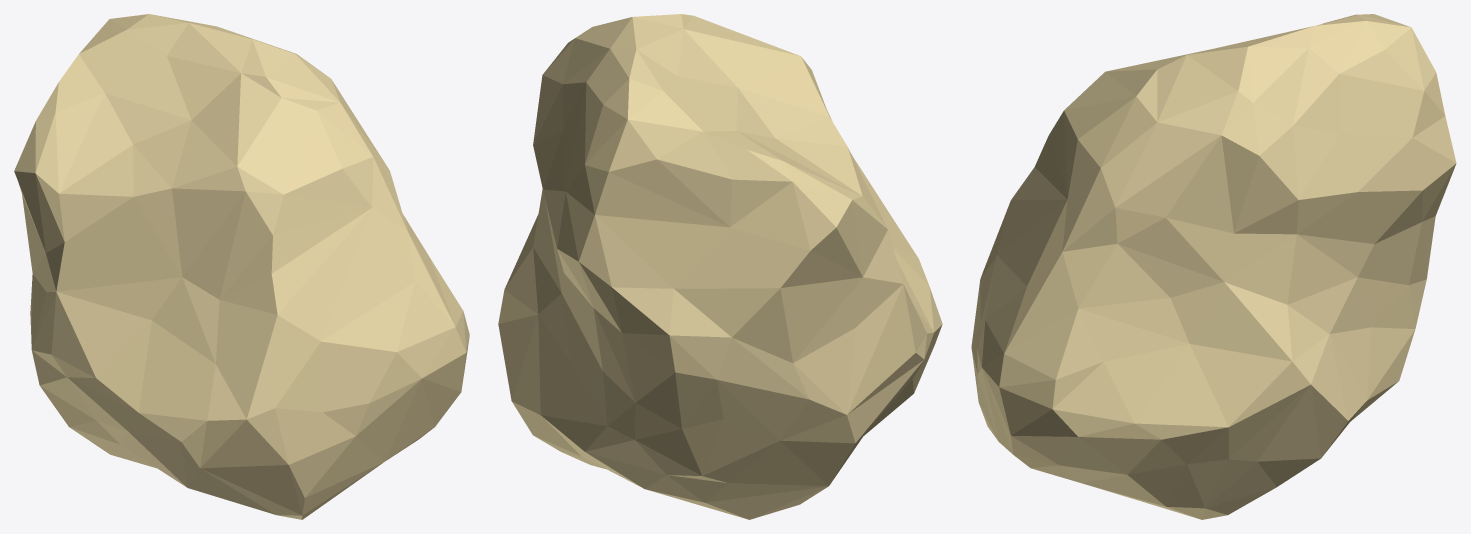
The model's file is Asteroid (78).fbx.
3 views of the same model, side by side, from view 1: azimuth 30°, elevation 25°; view 2: azimuth 150°, elevation 25°; view 3: azimuth 270°, elevation 25° (orthographic). The views are drawn at different scales.
Parts seen in each view (by area): view 1: Asteroid107; view 2: Asteroid107; view 3: Asteroid107.
Boxes of the visible parts, <box> form: Asteroid107: <box>14,14,469,519</box>; Asteroid107: <box>498,14,942,519</box>; Asteroid107: <box>971,14,1456,519</box>.
Bounding box in the file's own units: 169 × 188 × 181.
